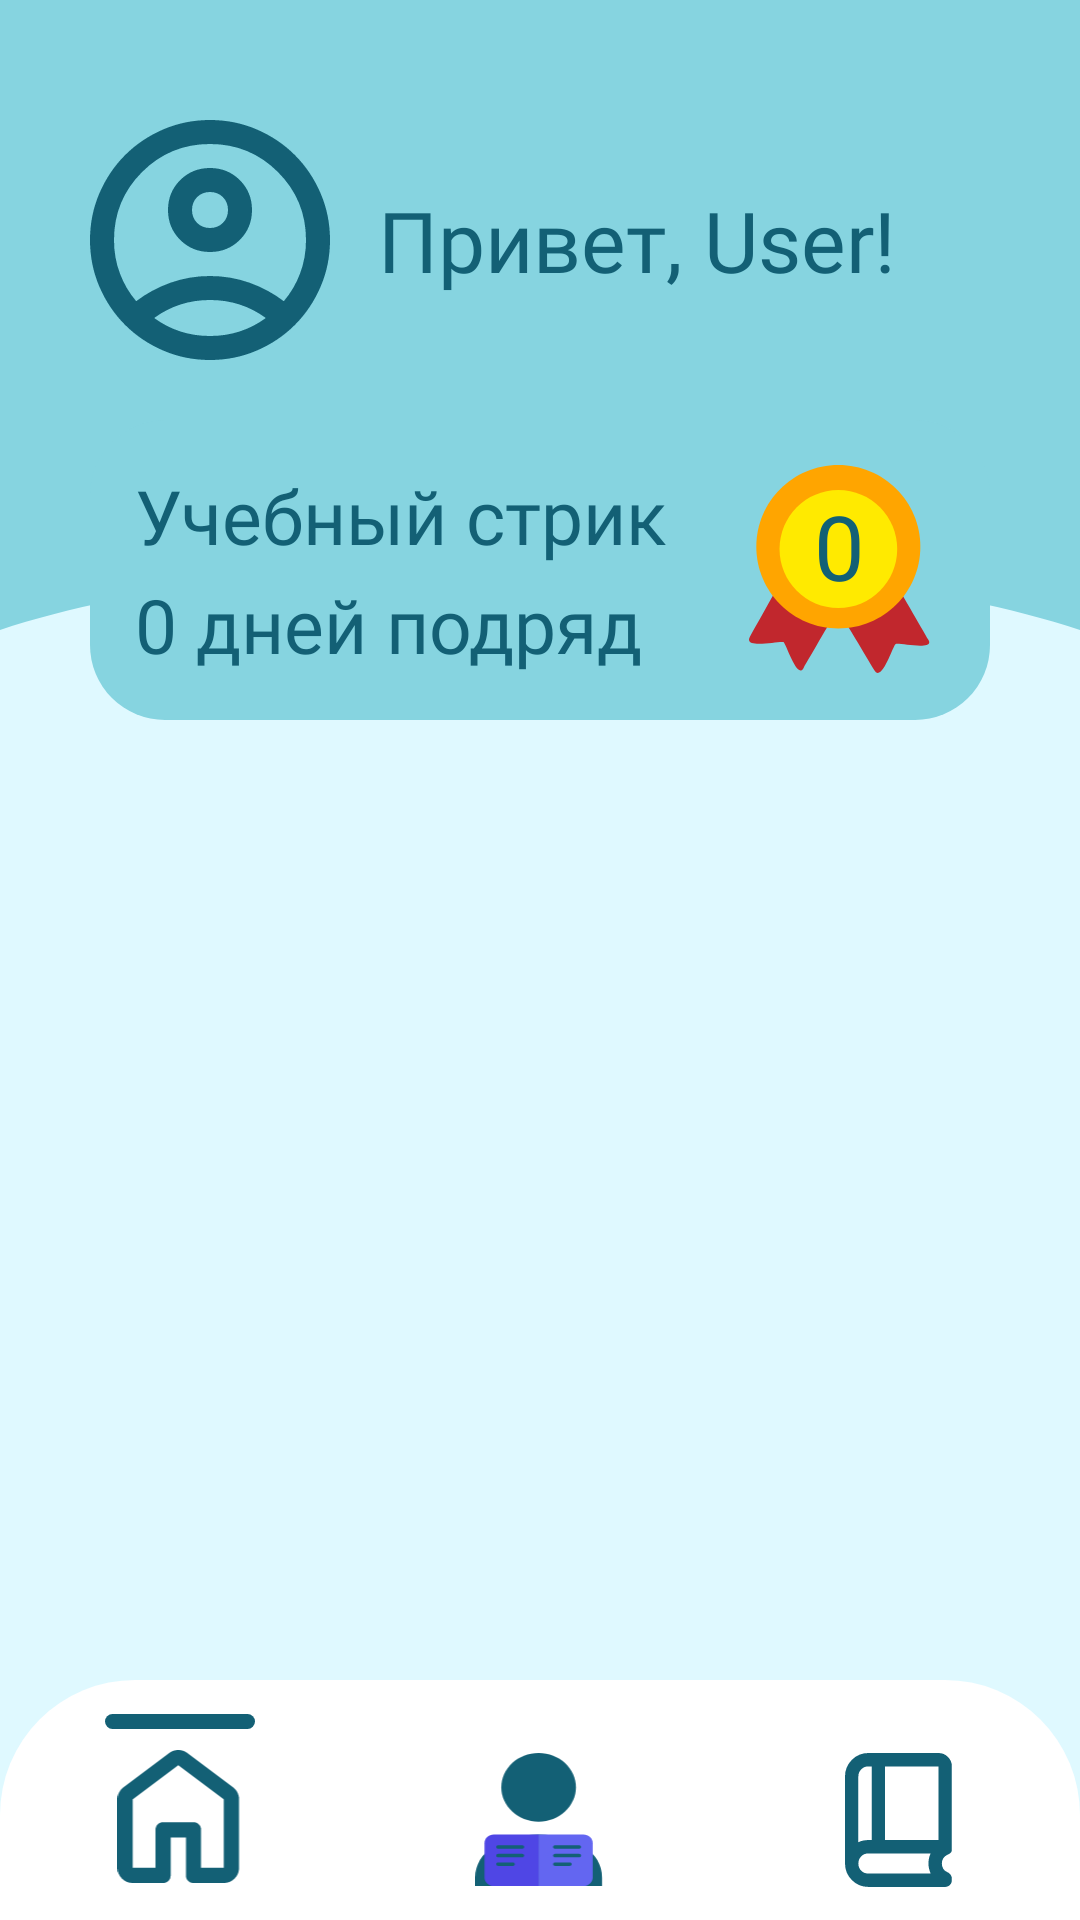

Screen size 1080px×1920px. Icon name, then its box in pixels as (x1, y1, x2, y2):
avaterbook: (475, 1753, 603, 1886)
book: (845, 1753, 952, 1887)
home: (117, 1750, 240, 1883)
medal: (749, 465, 930, 673)
profile: (90, 120, 330, 360)
